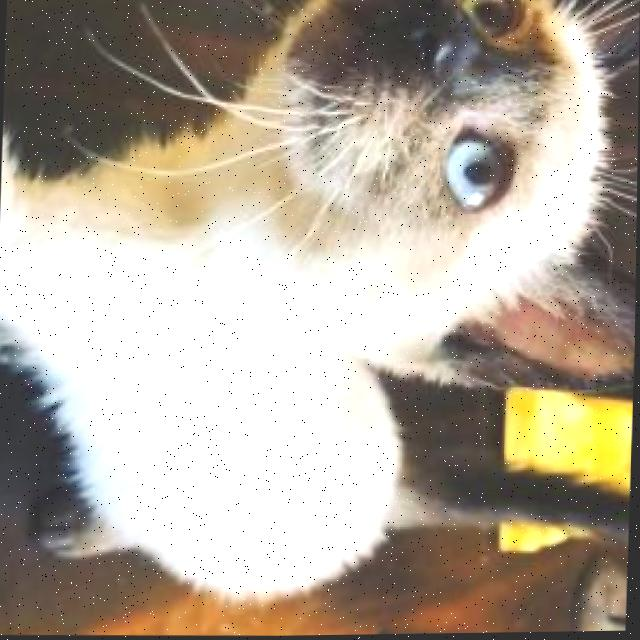Siamese: (0, 0, 640, 621)
